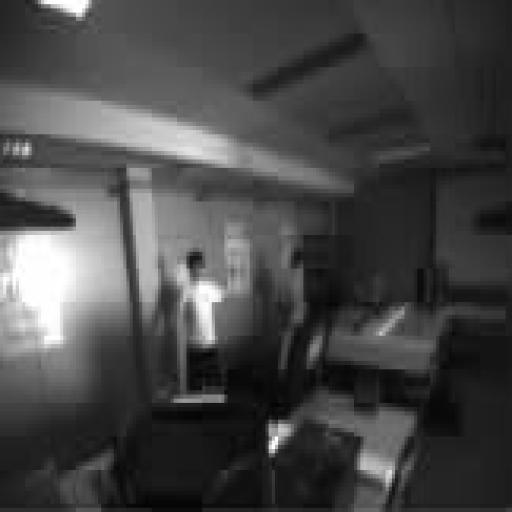human: (184, 248, 224, 390), (279, 248, 306, 373)
